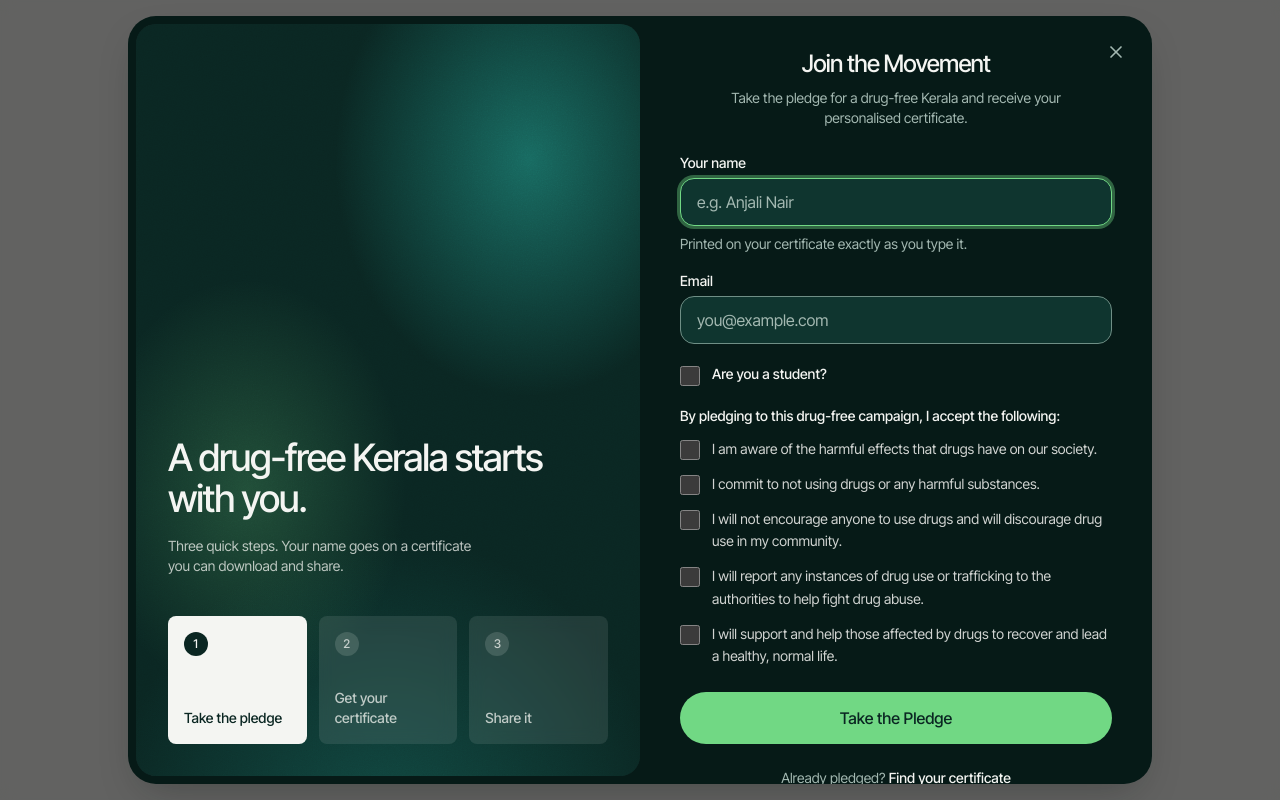
Test: PledgeDialog › student and college › can be driven from the keyboard without submitting the form
This screenshot has width=1280, height=800.
Click the checkbox labelled "Are you a student?" at x=690, y=376, box [680,366,700,386]
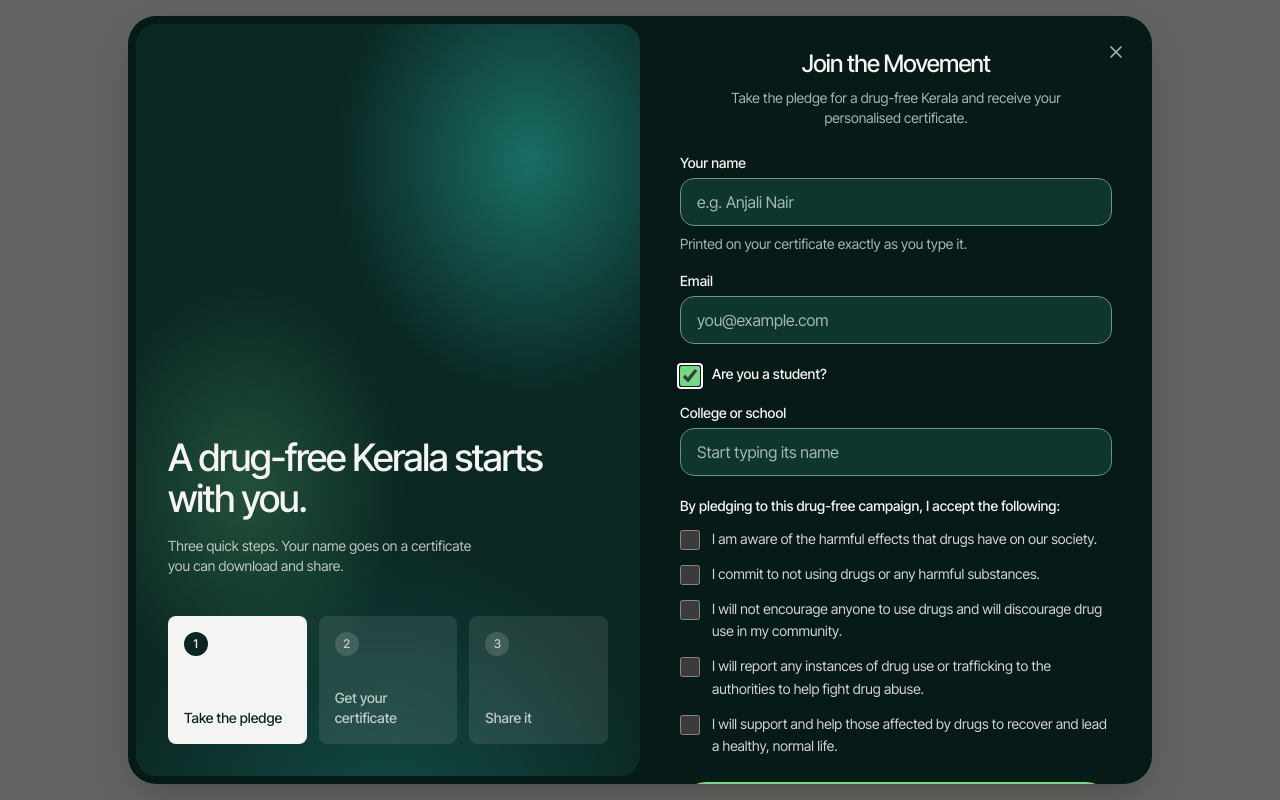
Type "college" into the dropdown labelled "College or school" at x=896, y=452, box [680,428,1112,476]
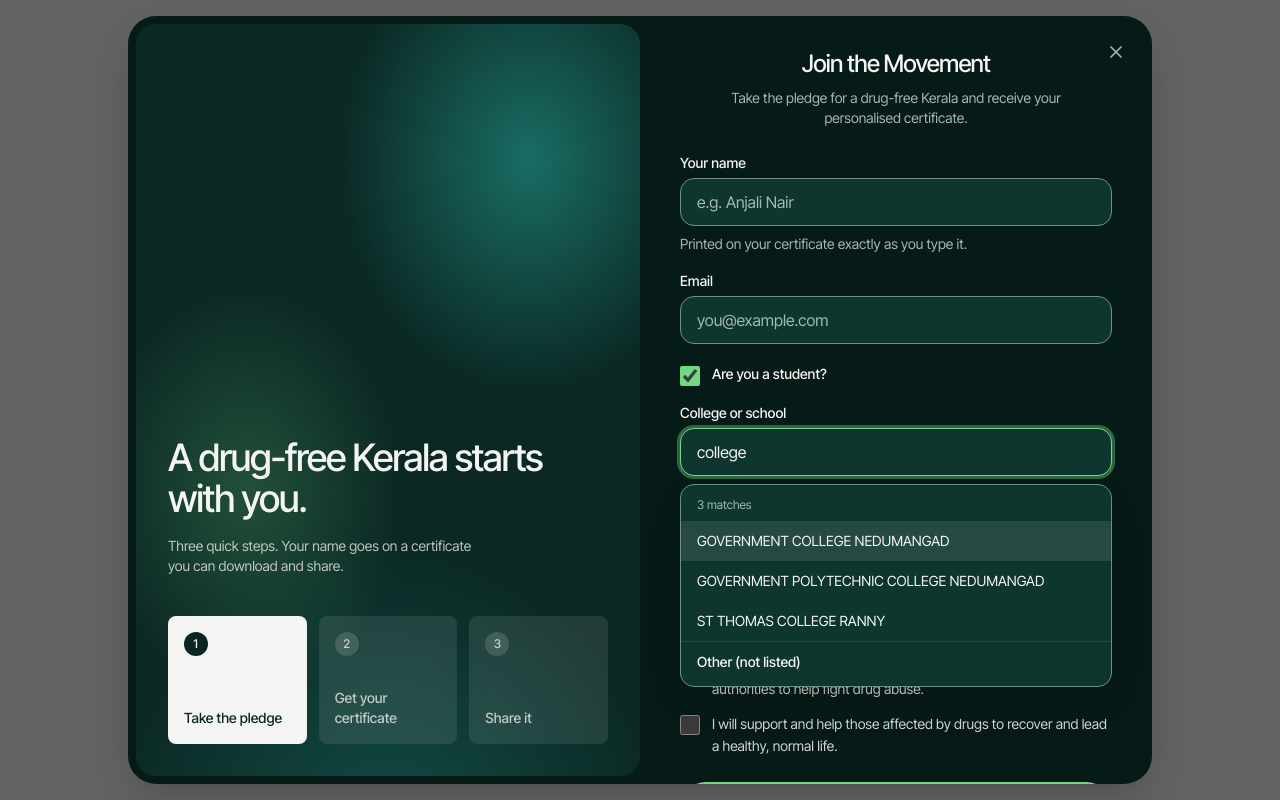
Now the option "GOVERNMENT COLLEGE NEDUMANGAD" is shown, box [681,521,1111,561]
Press Arrowdown Arrowdown Arrowup {ArrowDow
Now the option "ST THOMAS COLLEGE RANNY" is shown, box [681,601,1111,641]
Press Enter
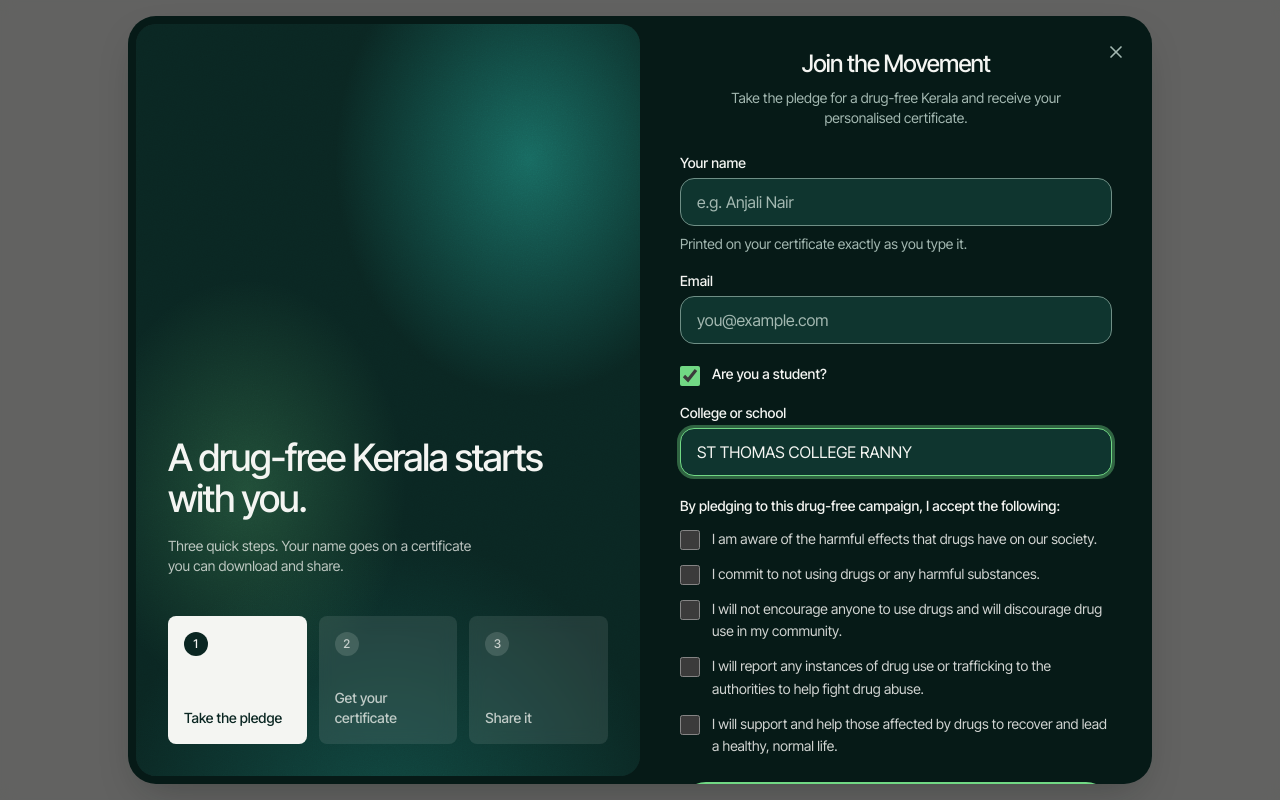
Now the dropdown labelled "College or school" holds "ST THOMAS COLLEGE RANNY", box [680,428,1112,476]
